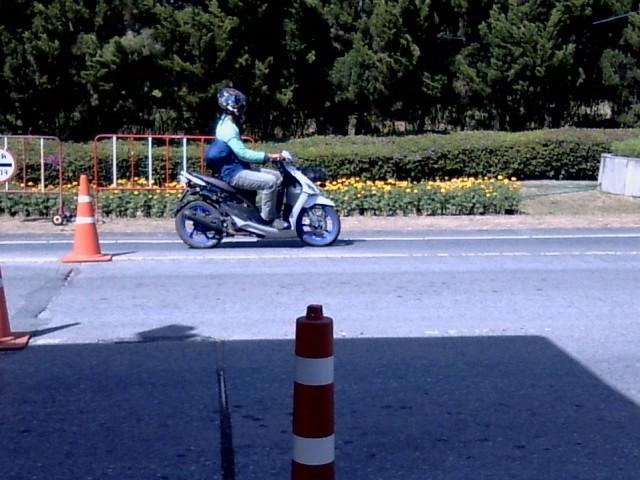helmet: (218, 85, 246, 117)
motor: (174, 151, 340, 247)
person: (207, 86, 287, 228)
